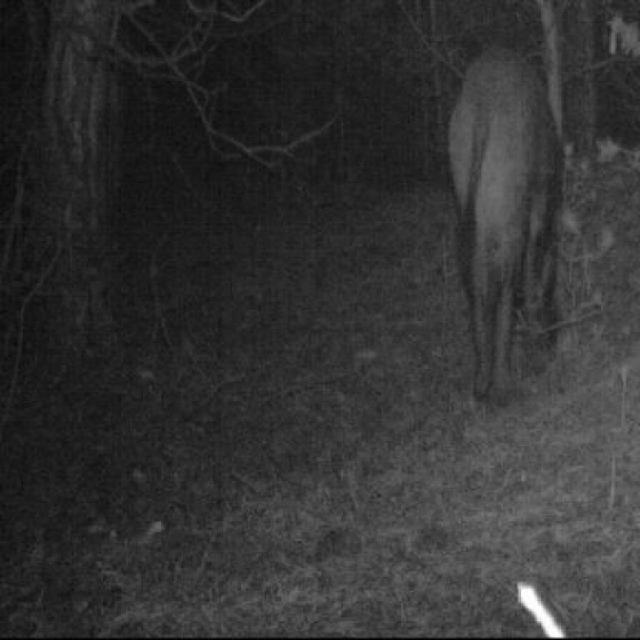Boar: (454, 44, 577, 402)
